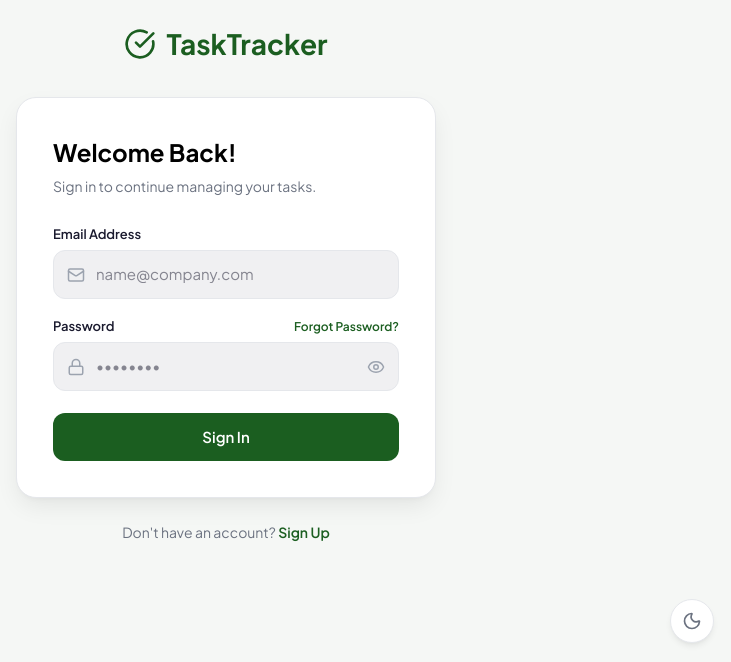
Scenario: LoginForm › shows validation error for invalid email format
Type "invalid-email" into the field labelled "Email Address" at (226, 275), box [53,250,399,299]
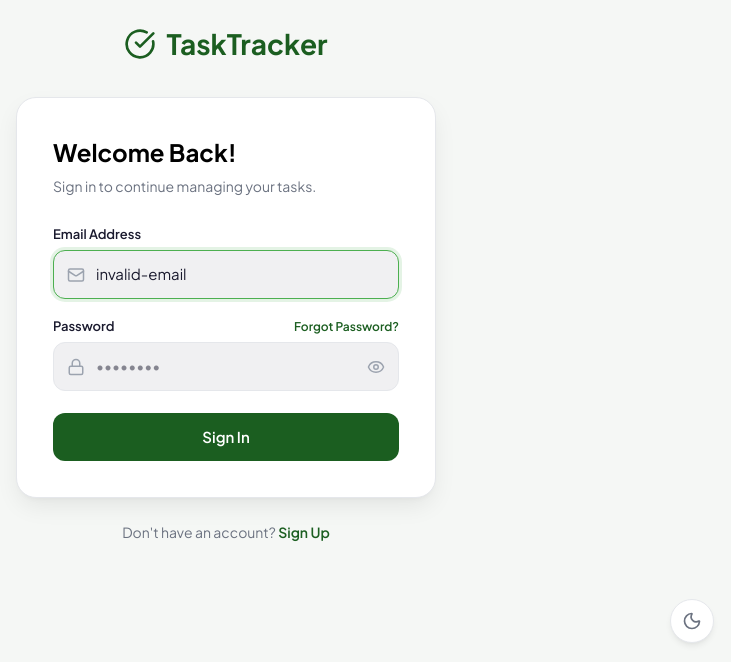
Type "password123" into the password field labelled "Password" at (226, 367), box [53,342,399,391]
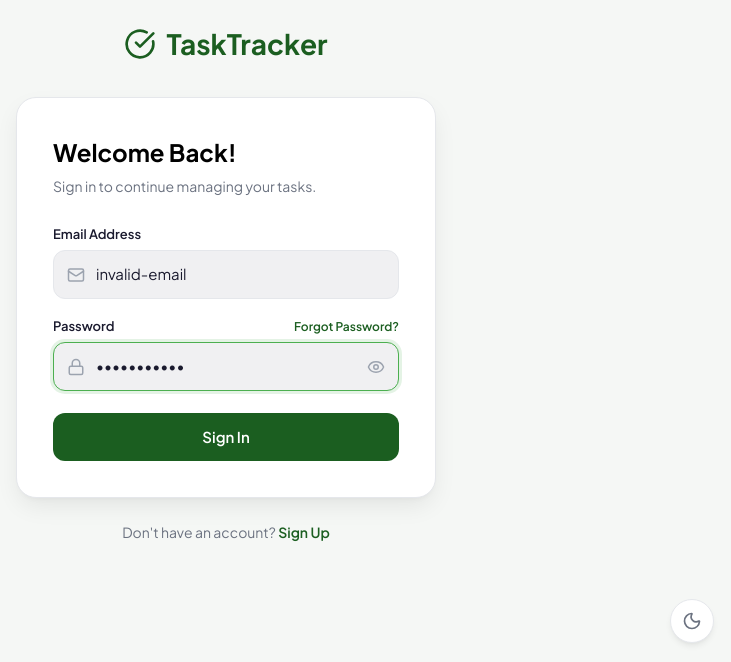
Click the button "Sign In" at (226, 437), box [53,413,399,461]
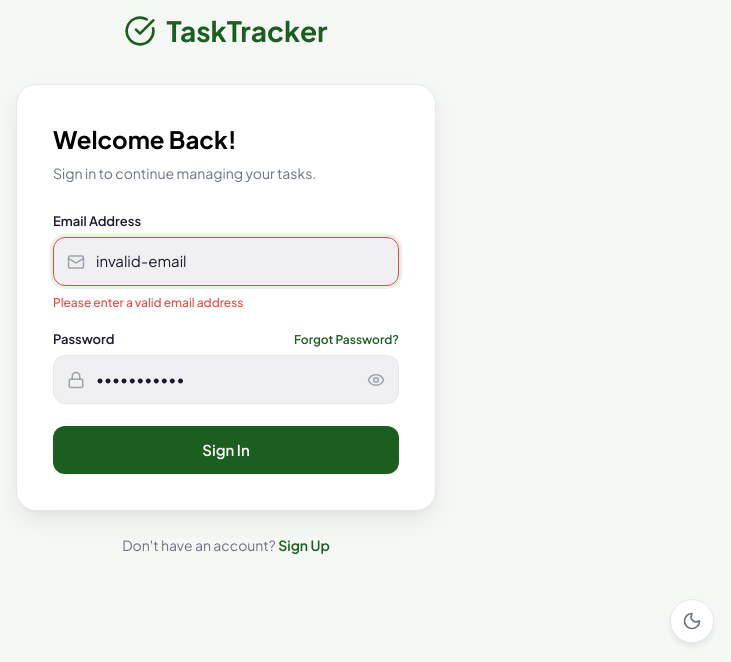
Expected: the text "Please enter a valid email address" is shown, [53,295,244,310]
